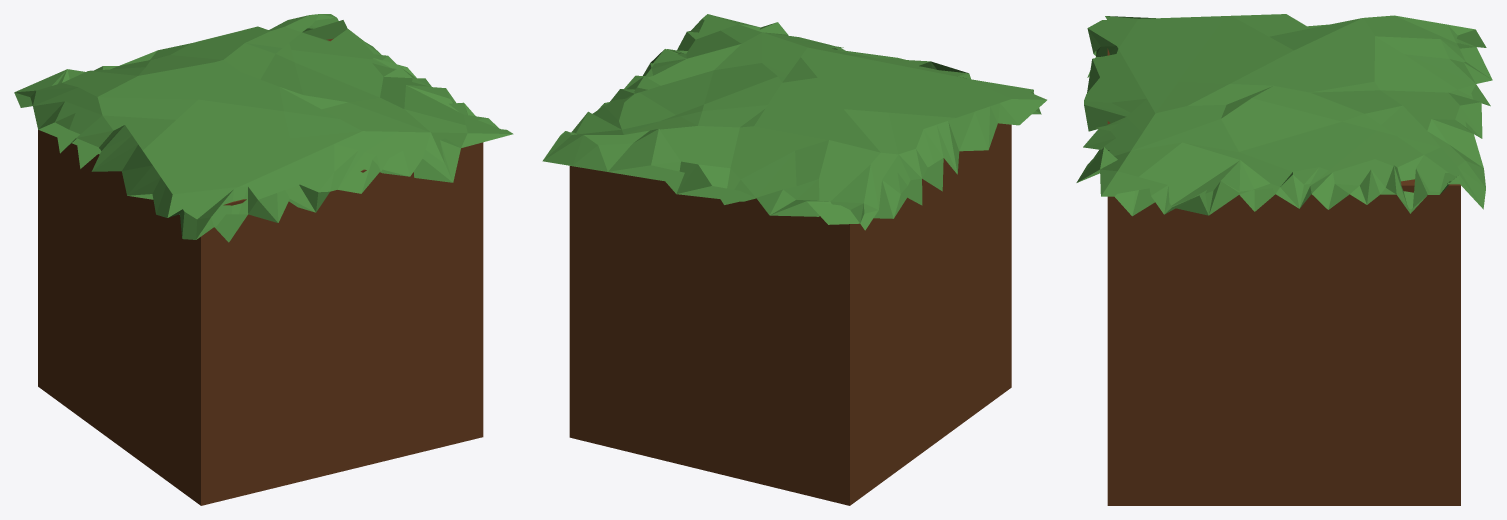
File: dirt.fbx
The picture shows the model from 3 angles, left to right: view 1: azimuth 30°, elevation 25°; view 2: azimuth 150°, elevation 25°; view 3: azimuth 270°, elevation 25°; orthographic projection. The views are drawn at different scales.
Parts seen in each view (by area): view 1: Cube, Cube.001; view 2: Cube, Cube.001; view 3: Cube, Cube.001.
Boxes of the visible parts, x1=… form: Cube: x1=38, y1=38, x2=483, y2=505; Cube.001: x1=14, y1=14, x2=513, y2=242; Cube: x1=569, y1=123, x2=1011, y2=505; Cube.001: x1=542, y1=14, x2=1046, y2=230; Cube: x1=1107, y1=48, x2=1460, y2=505; Cube.001: x1=1076, y1=14, x2=1492, y2=216.
Bounding box in the file's own units: 250 × 220 × 236.
